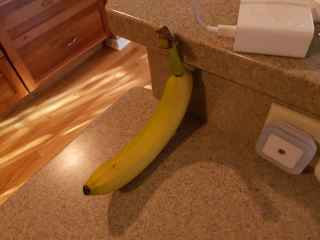banana: (80, 23, 196, 200)
